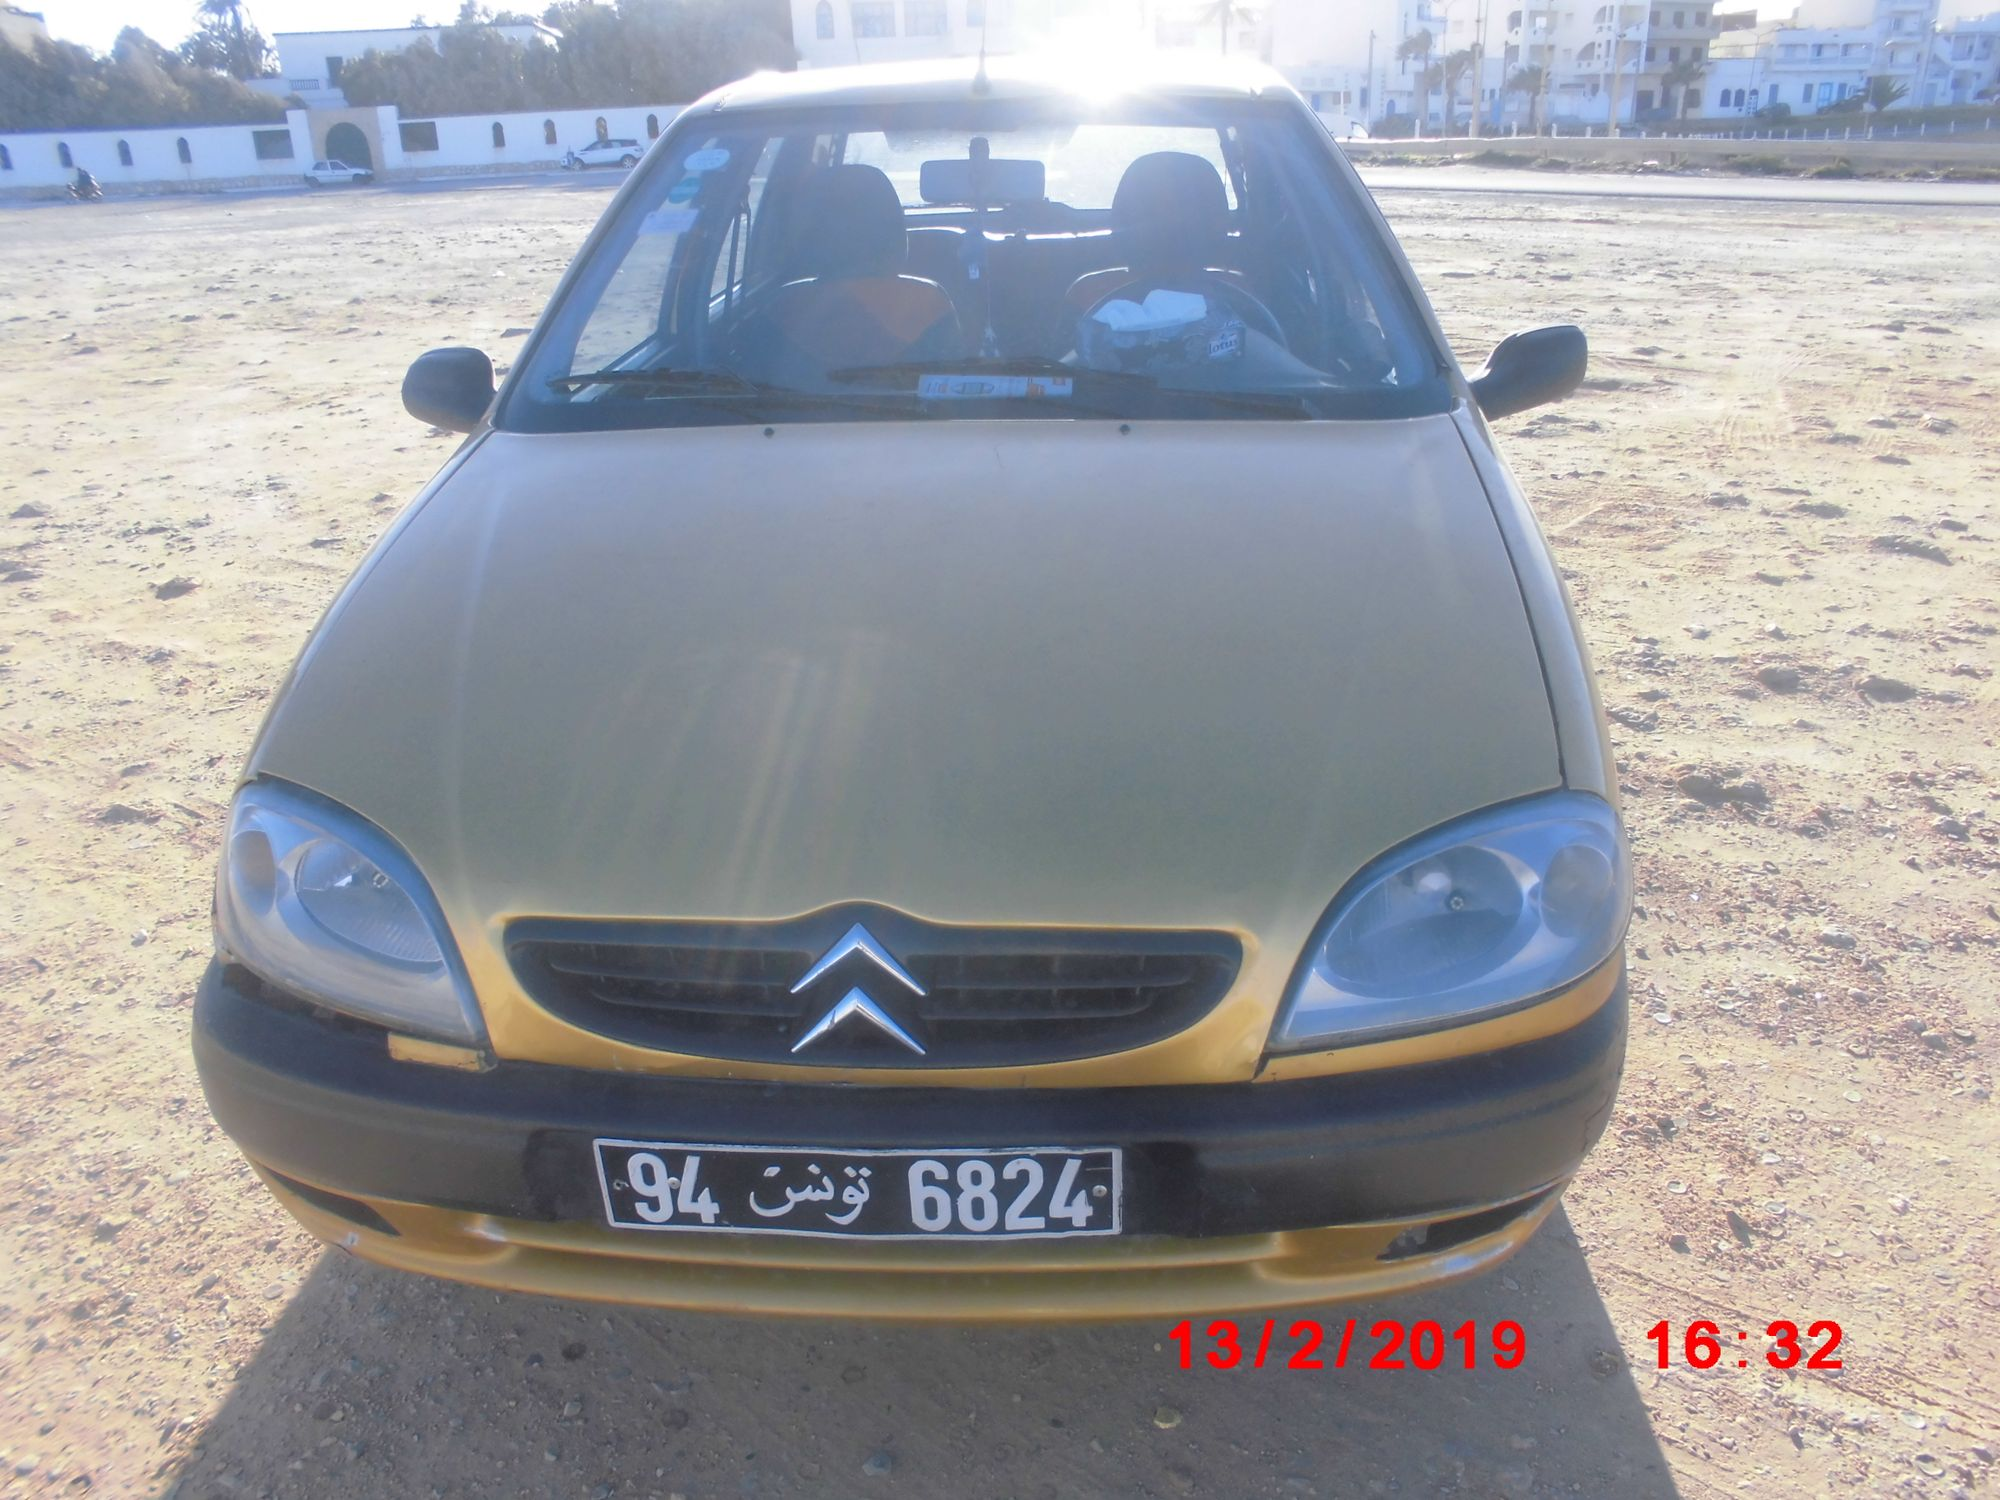LP: (587, 1134, 1128, 1241)
